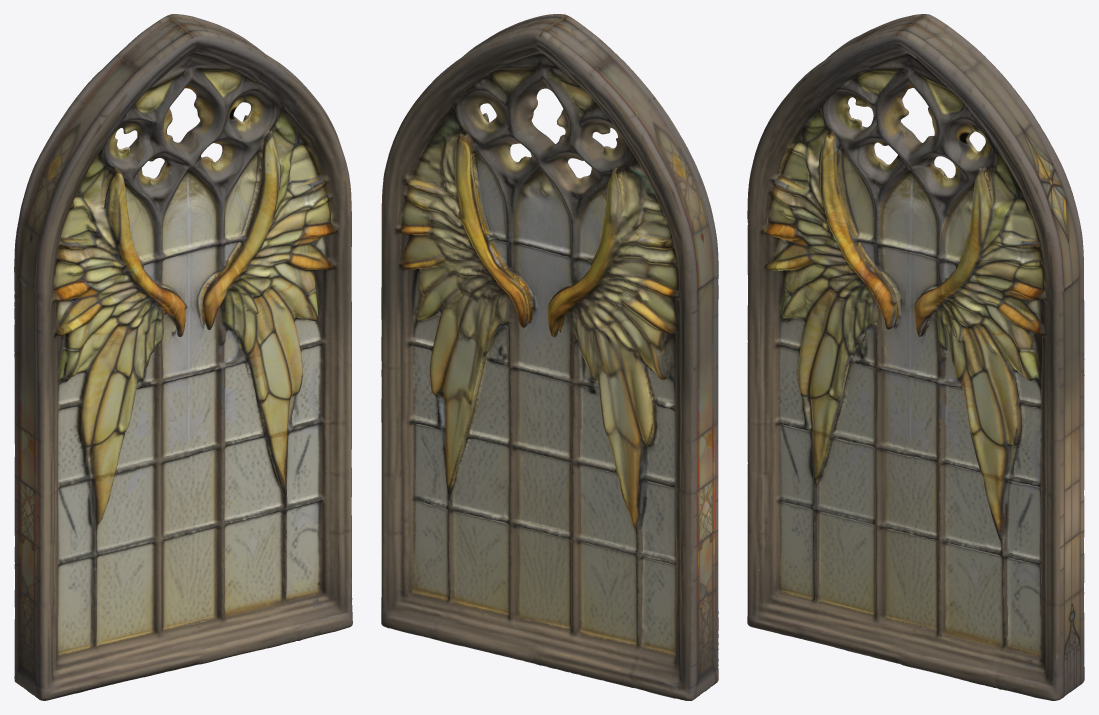
The picture shows the model from 3 angles, left to right: view 1: azimuth 30°, elevation 25°; view 2: azimuth 150°, elevation 25°; view 3: azimuth 330°, elevation 25°; orthographic projection.
Parts seen in each view (by area): view 1: Mesh_0; view 2: Mesh_0; view 3: Mesh_0.
Part boxes in pixels (x1,y1,x2,y2): Mesh_0: (14,14,352,700); Mesh_0: (381,14,718,700); Mesh_0: (747,14,1084,700).
Size of the model in its own units: 105 by 201 by 19.51.
1 material, 1 textured.
